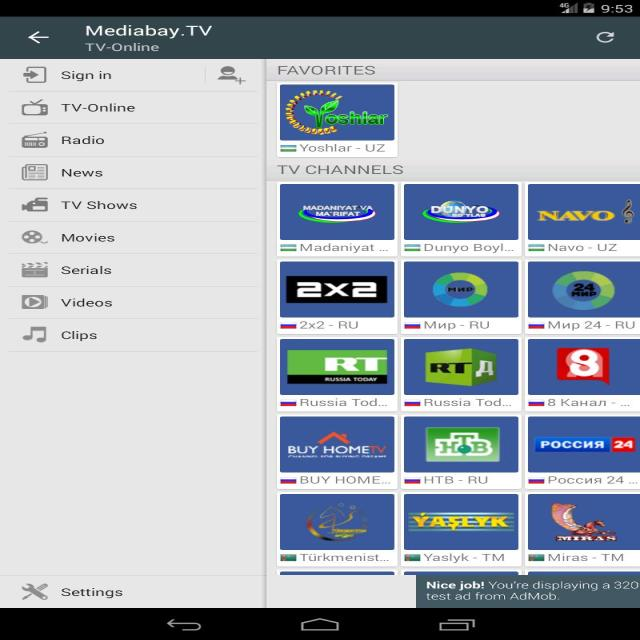button: (280, 181, 399, 258), (523, 491, 640, 569), (405, 260, 524, 336), (402, 492, 522, 567), (521, 414, 640, 489), (523, 181, 640, 257), (280, 492, 398, 567), (280, 261, 398, 335), (0, 320, 264, 353), (0, 576, 264, 609), (403, 336, 519, 411), (526, 260, 640, 336), (403, 182, 521, 255), (403, 415, 521, 488), (2, 190, 259, 223), (3, 287, 265, 319), (2, 157, 259, 189), (280, 338, 394, 410), (528, 337, 640, 410), (278, 418, 394, 488), (2, 255, 261, 286), (0, 223, 261, 253), (0, 93, 261, 121), (2, 124, 254, 151), (1, 59, 209, 90), (212, 60, 260, 90), (24, 25, 55, 49), (592, 28, 624, 49)
heading: (77, 22, 225, 39), (274, 160, 412, 177), (276, 65, 376, 78)
iframe: (419, 574, 640, 608)
image: (526, 493, 640, 551), (405, 415, 518, 473), (280, 85, 394, 142), (282, 183, 394, 241), (403, 339, 518, 395), (528, 260, 639, 318), (405, 495, 518, 551), (280, 417, 395, 472), (282, 262, 394, 318), (406, 262, 518, 318), (526, 417, 640, 472), (407, 184, 518, 240), (282, 339, 395, 394), (530, 338, 638, 395), (528, 185, 638, 240), (280, 495, 394, 547), (15, 579, 54, 603), (14, 323, 51, 343), (17, 259, 51, 280), (16, 195, 53, 214), (18, 129, 52, 149), (19, 161, 50, 182), (18, 98, 51, 117), (19, 64, 49, 84), (19, 292, 49, 310), (20, 228, 48, 246)
text: (542, 318, 640, 335), (294, 395, 394, 411), (542, 396, 640, 412), (418, 474, 518, 489), (59, 581, 129, 602), (547, 551, 638, 567), (296, 473, 393, 488), (548, 474, 638, 490), (57, 195, 140, 212), (299, 242, 393, 256), (421, 397, 515, 411), (296, 551, 395, 564), (421, 242, 518, 255), (78, 41, 170, 54), (54, 227, 120, 245), (60, 101, 142, 115), (424, 553, 517, 565), (546, 242, 629, 254), (56, 294, 115, 310), (298, 318, 364, 332), (57, 326, 111, 343), (422, 319, 492, 332), (56, 262, 116, 277), (52, 68, 116, 82), (56, 132, 112, 147), (59, 164, 110, 179)
